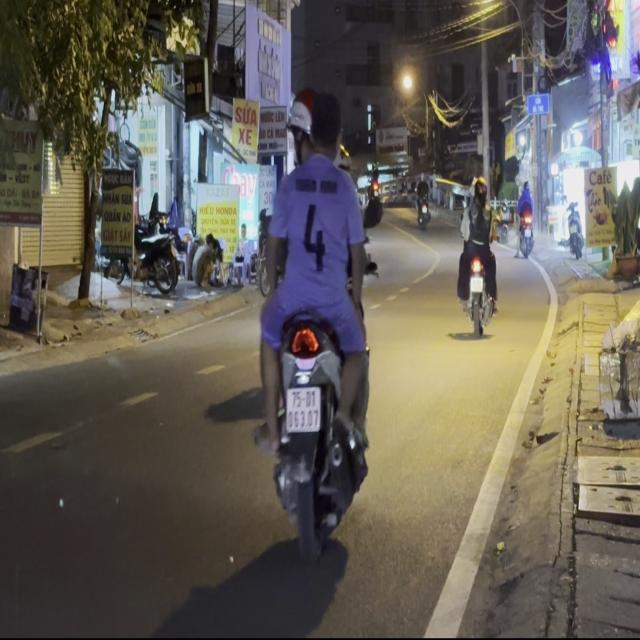helmet: (284, 97, 314, 164)
licenseplate: (252, 88, 378, 568)
motorcyclist: (308, 90, 343, 162)
nohelmet: (286, 387, 320, 430)
